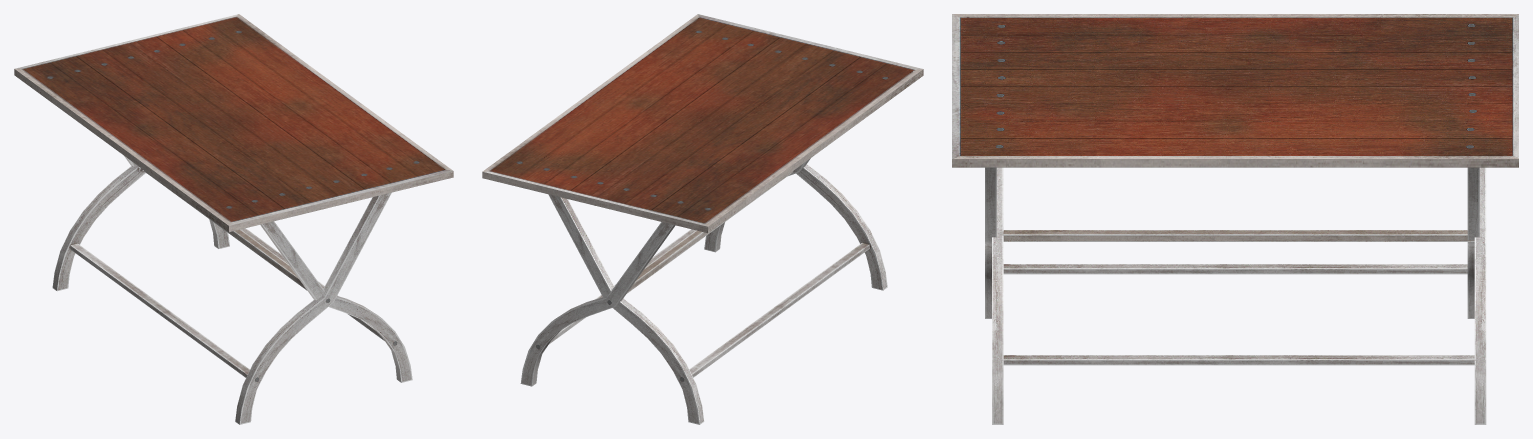
The model's file is Table_01.fbx.
3 views of the same model, side by side, from view 1: azimuth 30°, elevation 25°; view 2: azimuth 150°, elevation 25°; view 3: azimuth 270°, elevation 25° (orthographic). The views are drawn at different scales.
Parts seen in each view (by area): view 1: Table_01_LOD0; view 2: Table_01_LOD0; view 3: Table_01_LOD0.
Part boxes in pixels (x1,y1,x2,y2): Table_01_LOD0: [14, 14, 453, 424]; Table_01_LOD0: [482, 14, 923, 424]; Table_01_LOD0: [952, 14, 1518, 424].
Size of what is drawn, in the model's own units: 90.33 by 82.16 by 149.
